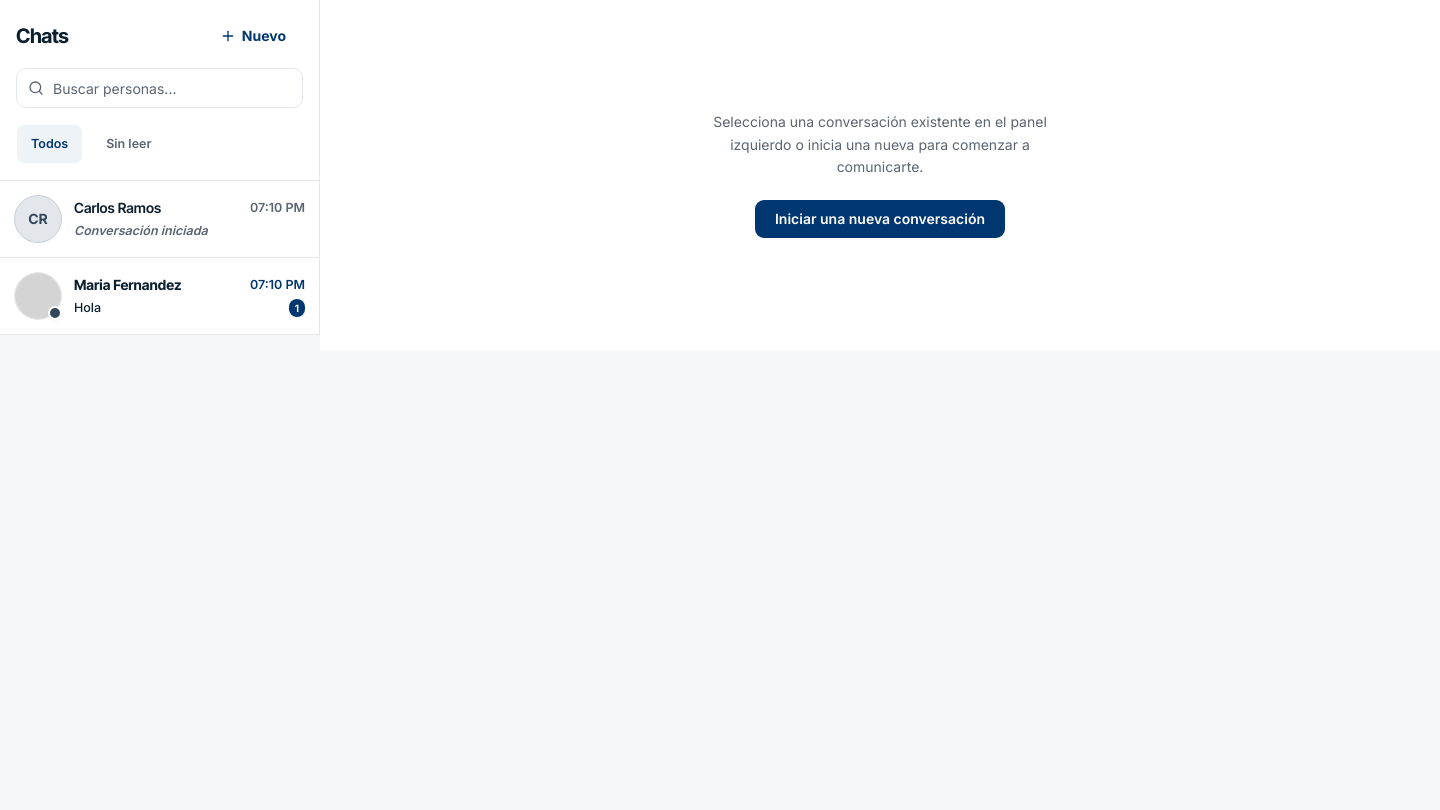
Scenario: ChatView & ChatPage › debe conmutar de unread a all y abrir modal al pulsar nueva conversación
The width and height of the screenshot is (1440, 810).
Expected: the heading "Maria Fernandez" is shown, [74,275,182,295]
Click the button "Sin leer". click: click(129, 144)
box: [91,124,166,164]
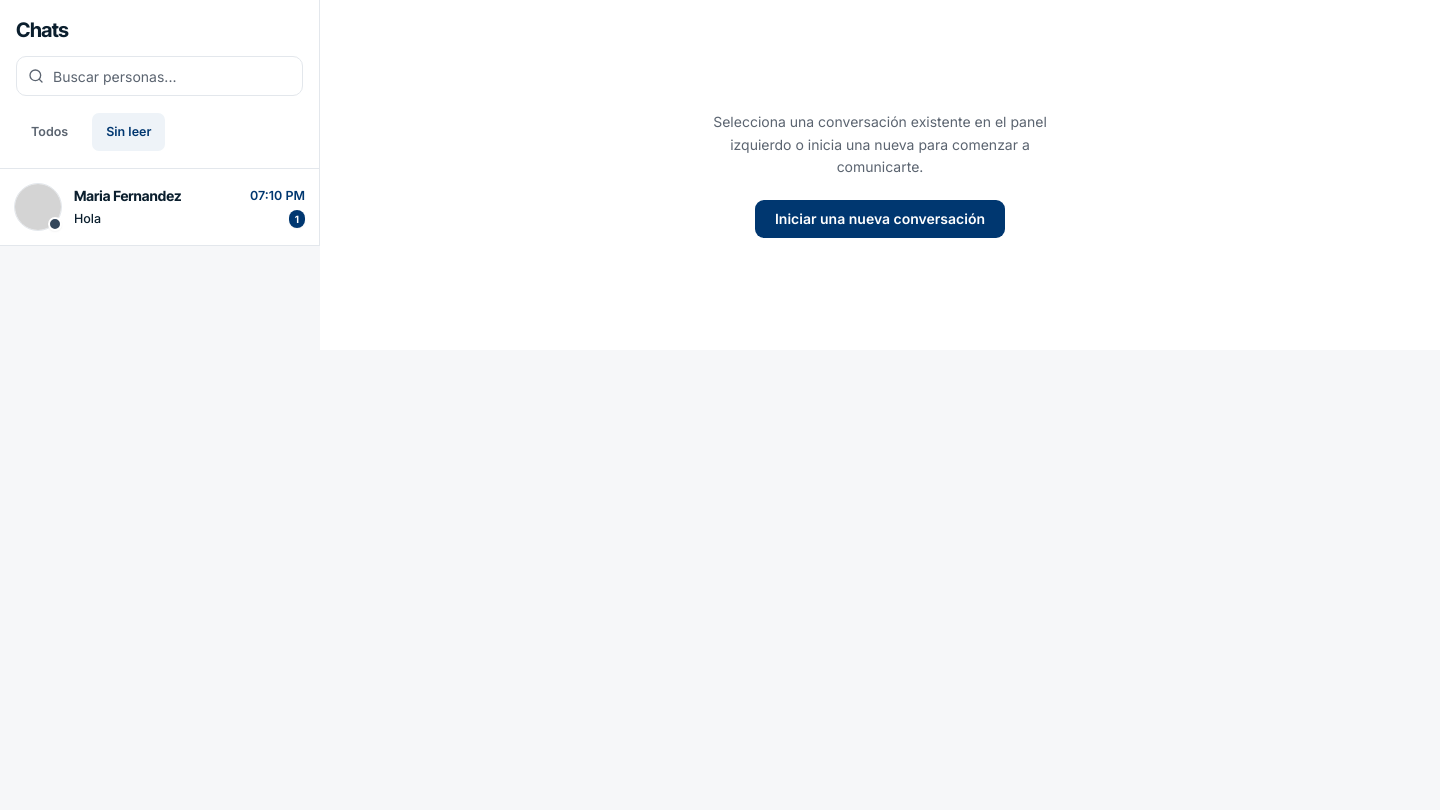
Click the button "Iniciar una nueva conversación". click: click(880, 219)
box: [754,199,1006,239]
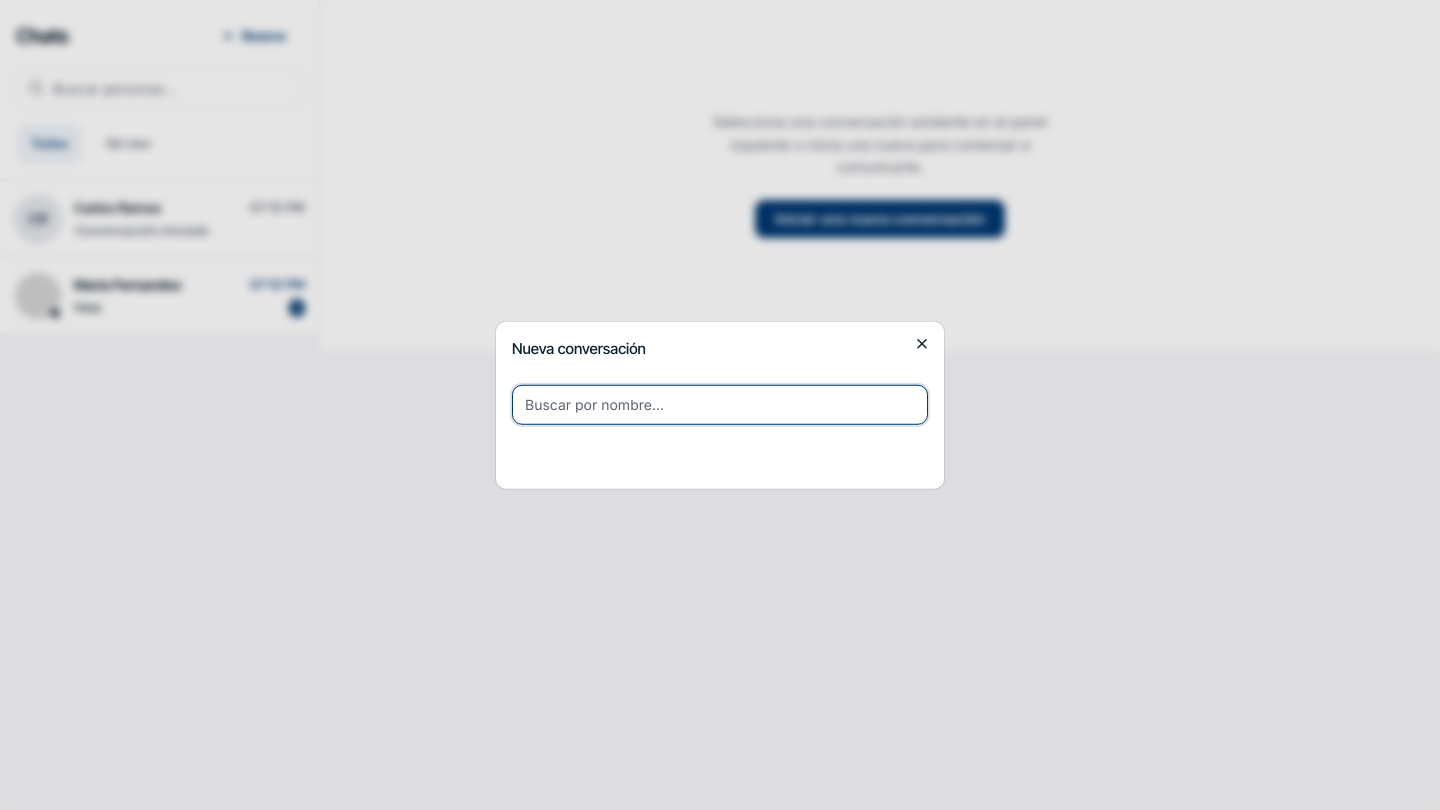
Now the heading "Nueva conversación" is shown, box [512,339,646,358]
